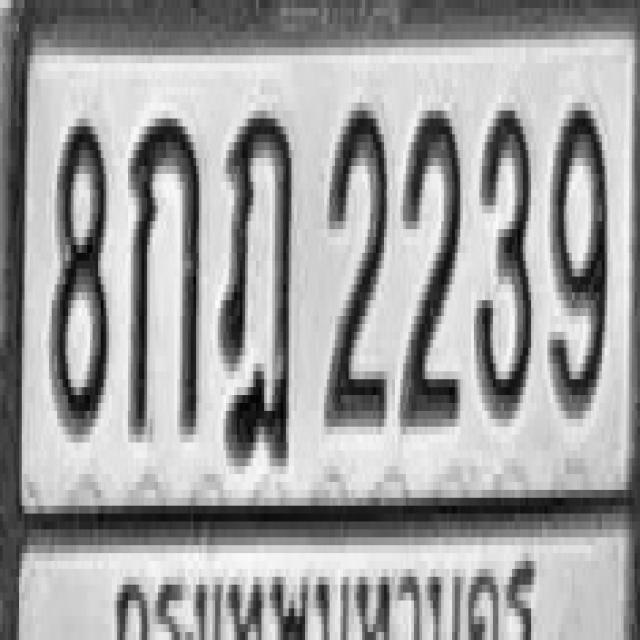10GorGai: (130, 107, 200, 430)
2: (324, 99, 387, 422), (400, 102, 460, 418)
23DorChaDa: (219, 103, 293, 458)
3: (474, 99, 531, 415)
8: (51, 110, 108, 427)
9: (550, 103, 607, 411)
